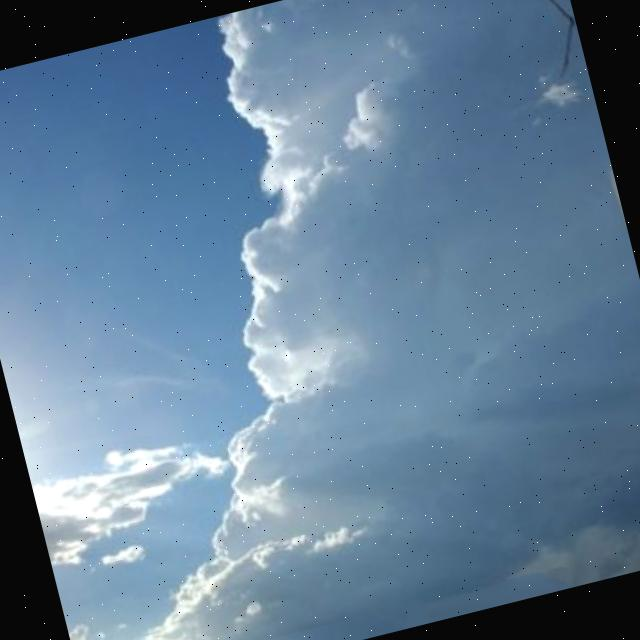Cb: (1, 107, 640, 640)
